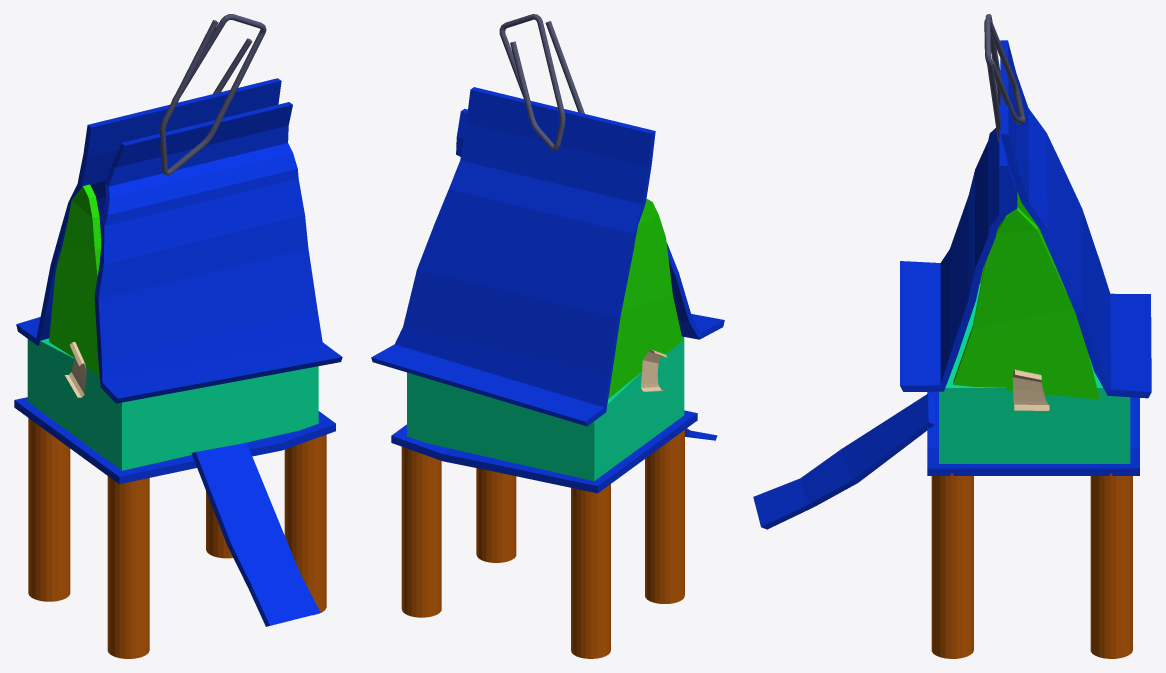
Rendered from SM_PetiteMaison.fbx.
The picture shows the model from 3 angles, left to right: view 1: azimuth 30°, elevation 25°; view 2: azimuth 150°, elevation 25°; view 3: azimuth 270°, elevation 25°; orthographic projection. The views are drawn at different scales.
Visible parts, largest first — view 1: SM_PetiteMaiosn; view 2: SM_PetiteMaiosn; view 3: SM_PetiteMaiosn.
Boxes of the visible parts, <box> form: SM_PetiteMaiosn: <box>14,14,342,658</box>; SM_PetiteMaiosn: <box>371,14,724,658</box>; SM_PetiteMaiosn: <box>753,14,1151,658</box>.
Size of the model in its own units: 253 by 581 by 349.
